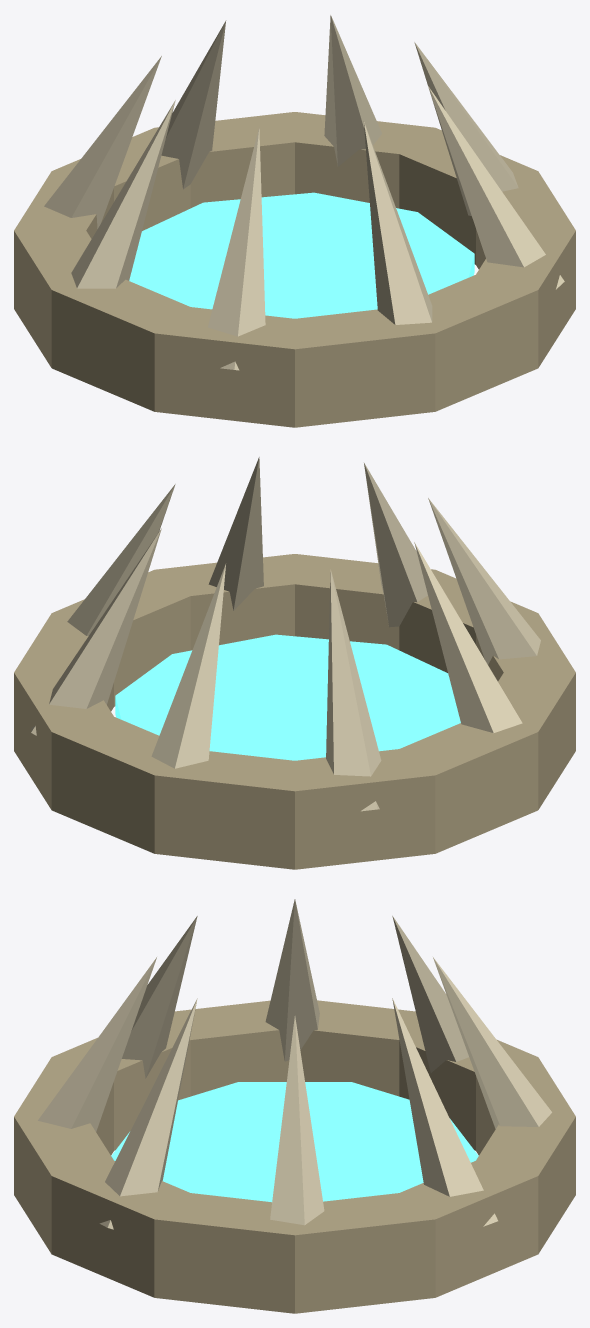
File: dc_maw.glb
3 views of the same model, one above another, from view 1: azimuth 30°, elevation 25°; view 2: azimuth 150°, elevation 25°; view 3: azimuth 270°, elevation 25° (orthographic).
Parts seen in each view (by area): view 1: part.dc_maw; view 2: part.dc_maw; view 3: part.dc_maw.
Part boxes in pixels (box(x1,y1,x2,y2)): part.dc_maw: box(14, 15, 575, 427); part.dc_maw: box(14, 457, 575, 869); part.dc_maw: box(14, 899, 575, 1313).
Bounding box in the file's own units: 0.5507 × 0.2581 × 0.5507.
